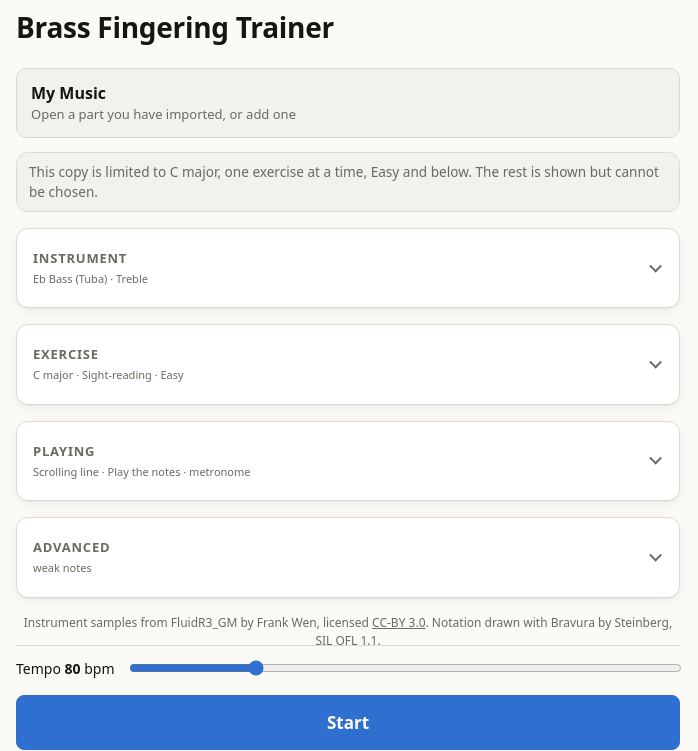
a copy that withholds things › will not let a withheld setting be chosen
Click the text "Exercise" at point(66, 354), box x1=33 y1=346 x2=99 y2=364
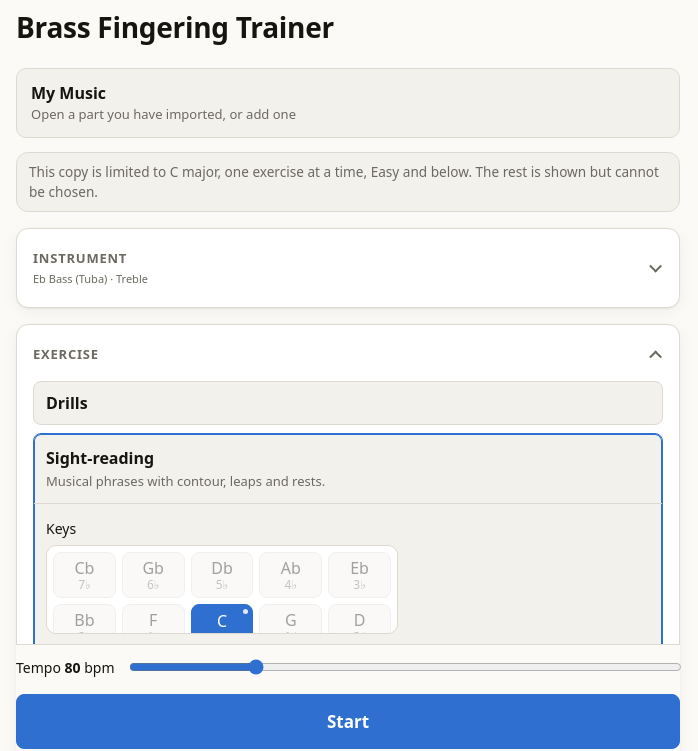
Check: the button named "D major, 2 sharps" is disabled, box x1=328 y1=604 x2=391 y2=634
Check: the button "Hard" is disabled, box x1=504 y1=676 x2=650 y2=710
Check: the button "Drills" is enabled, box x1=34 y1=382 x2=662 y2=424
